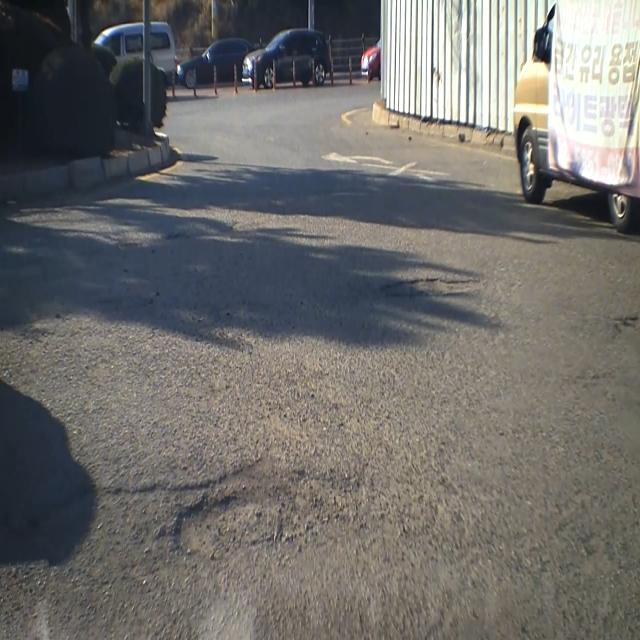Pothole: (167, 484, 318, 566)
